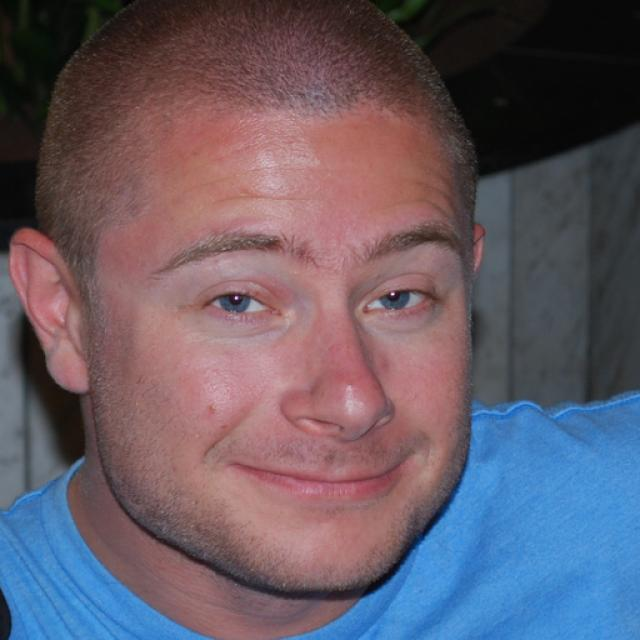Acne: (202, 402, 222, 417)
